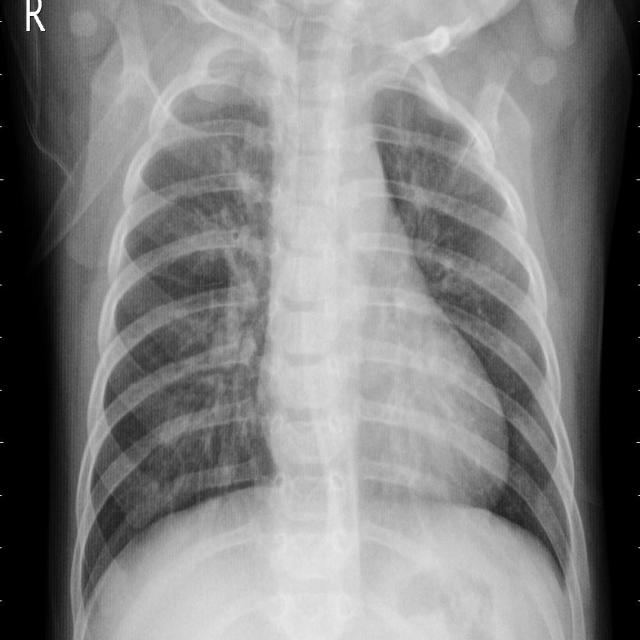low-pneumonia: (397, 108, 516, 300), (205, 219, 275, 452), (171, 29, 270, 193)
